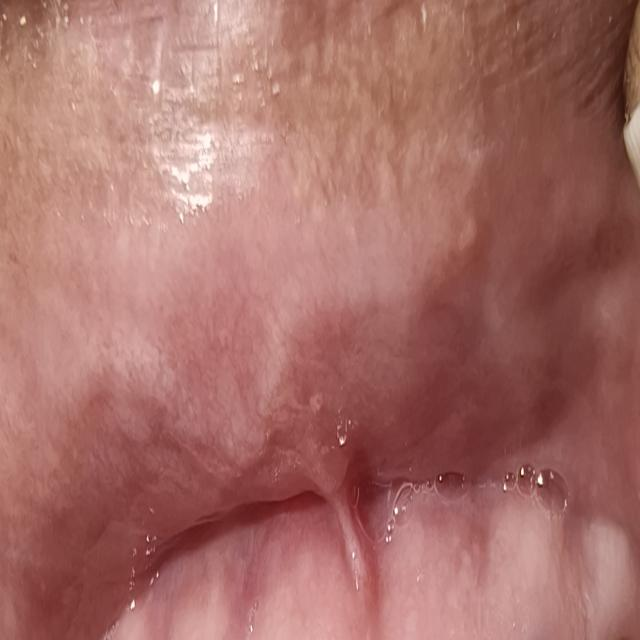leukoplakia-like-detection: (0, 154, 640, 639)
processing_area: (0, 0, 640, 639)
